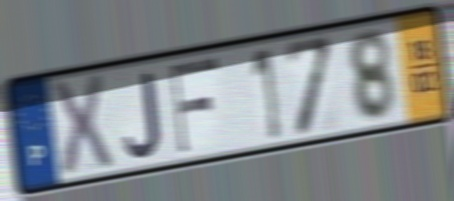1: (249, 44, 284, 143)
7: (285, 31, 334, 139)
8: (345, 26, 399, 125)
F: (168, 54, 222, 157)
J: (122, 69, 164, 160)
X: (49, 71, 117, 181)
